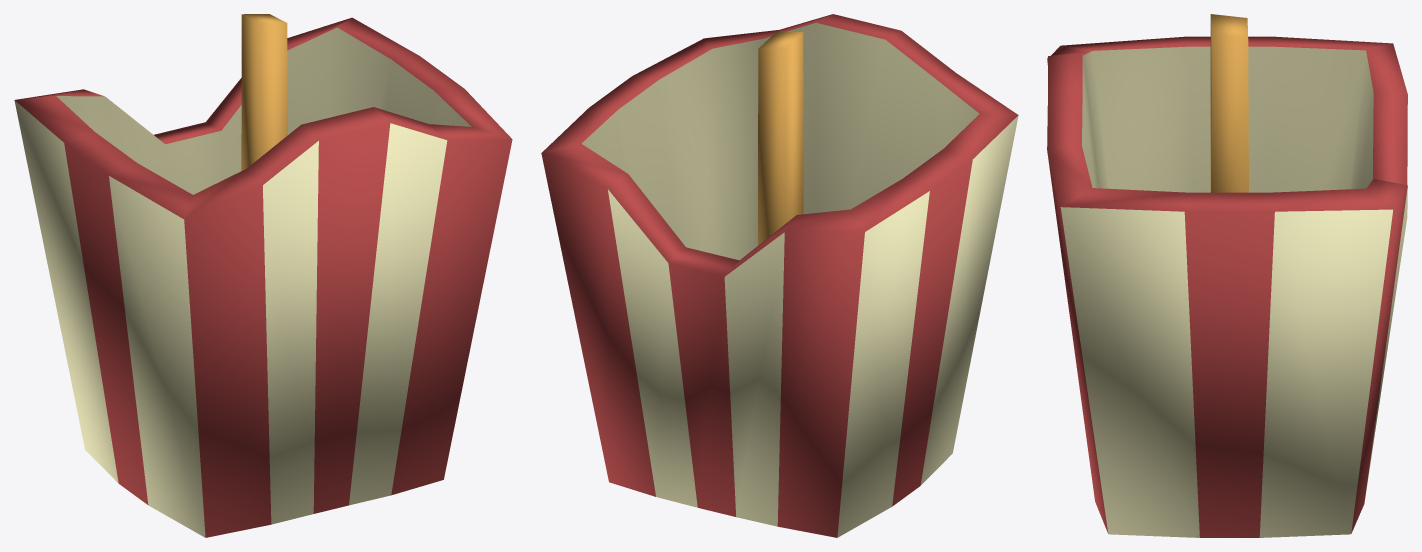
Rendered from SpaceFries.fbx.
The picture shows the model from 3 angles, left to right: view 1: azimuth 30°, elevation 25°; view 2: azimuth 150°, elevation 25°; view 3: azimuth 270°, elevation 25°; orthographic projection. The views are drawn at different scales.
Parts seen in each view (by area): view 1: SpaceFryBucket, SpaceFry; view 2: SpaceFryBucket, SpaceFry; view 3: SpaceFryBucket, SpaceFry.
Boxes of the visible parts, <box> form: SpaceFryBucket: <box>14,17,512,537</box>; SpaceFry: <box>241,14,287,170</box>; SpaceFryBucket: <box>541,14,1018,537</box>; SpaceFry: <box>758,32,803,245</box>; SpaceFryBucket: <box>1047,36,1407,537</box>; SpaceFry: <box>1210,14,1248,192</box>.
Size of the model in its own units: 0.2374 by 0.2878 by 0.2068.
